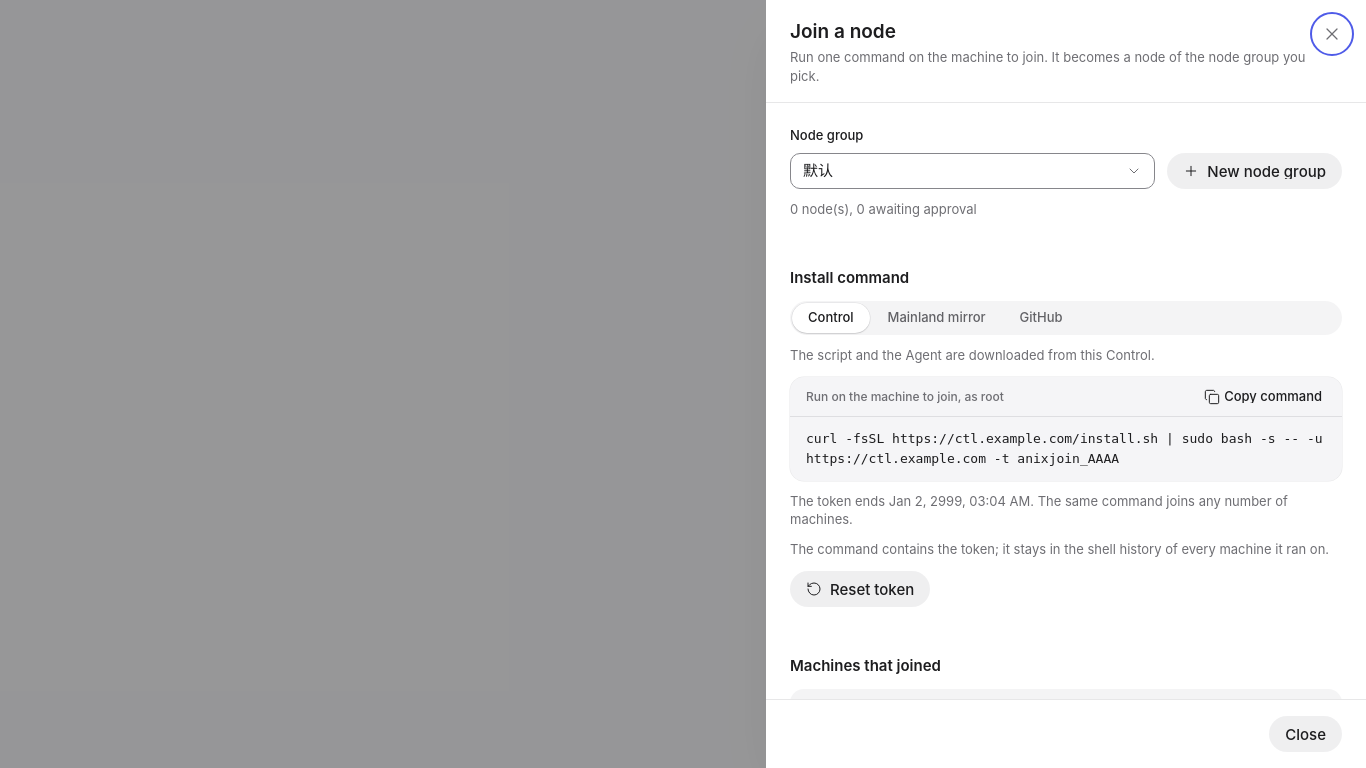
Test: NodeJoinSheet › switches mirrors, notes one that is not set up and shows when the token ends
expect the text with test id "join-token-expiry" shows "2999": met, box 790,493 -> 1288,527
Step 1. Click the button "GitHub" → (1041, 318), box 1004,303 -> 1078,333
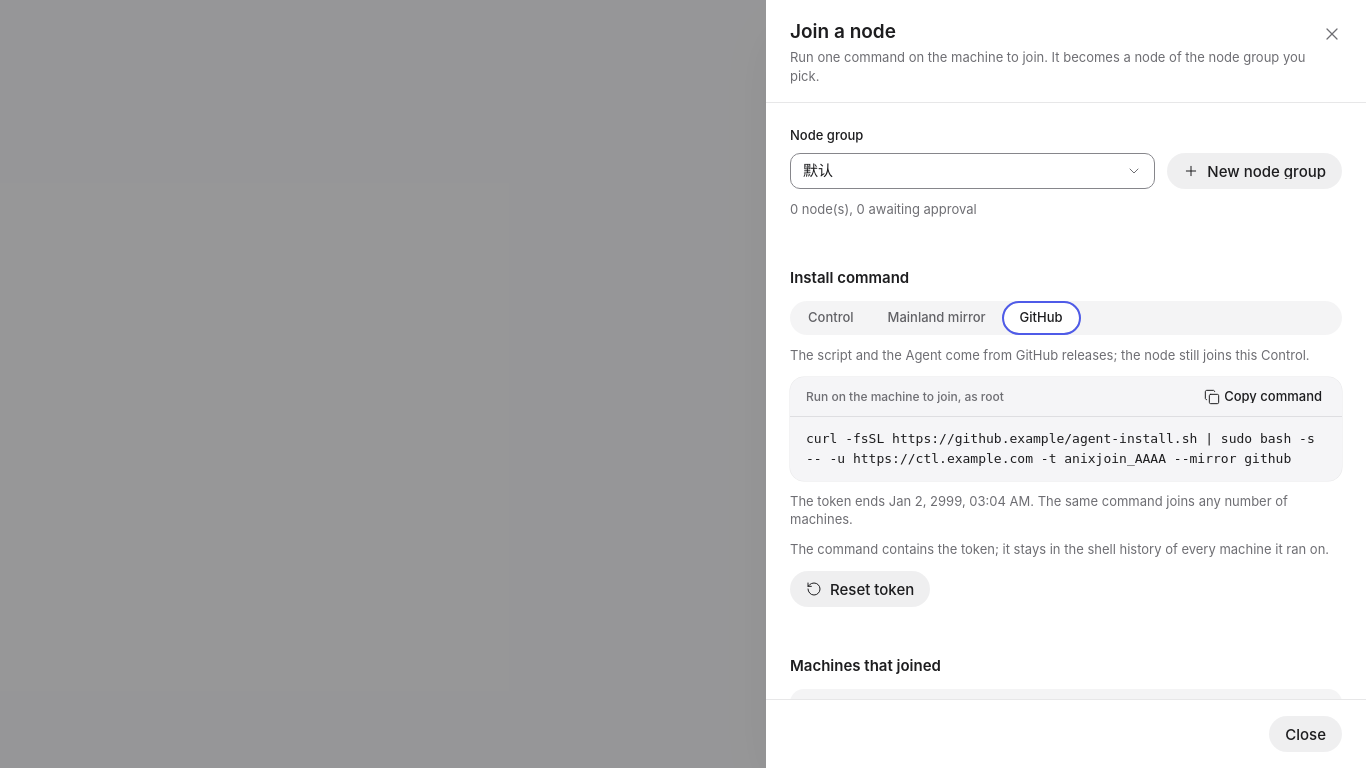
expect the element with test id "join-command-text" shows "--mirror github": met, box 806,431 -> 1323,466
Step 2. Click the button "Mainland mirror" → (936, 318), box 872,303 -> 1002,333
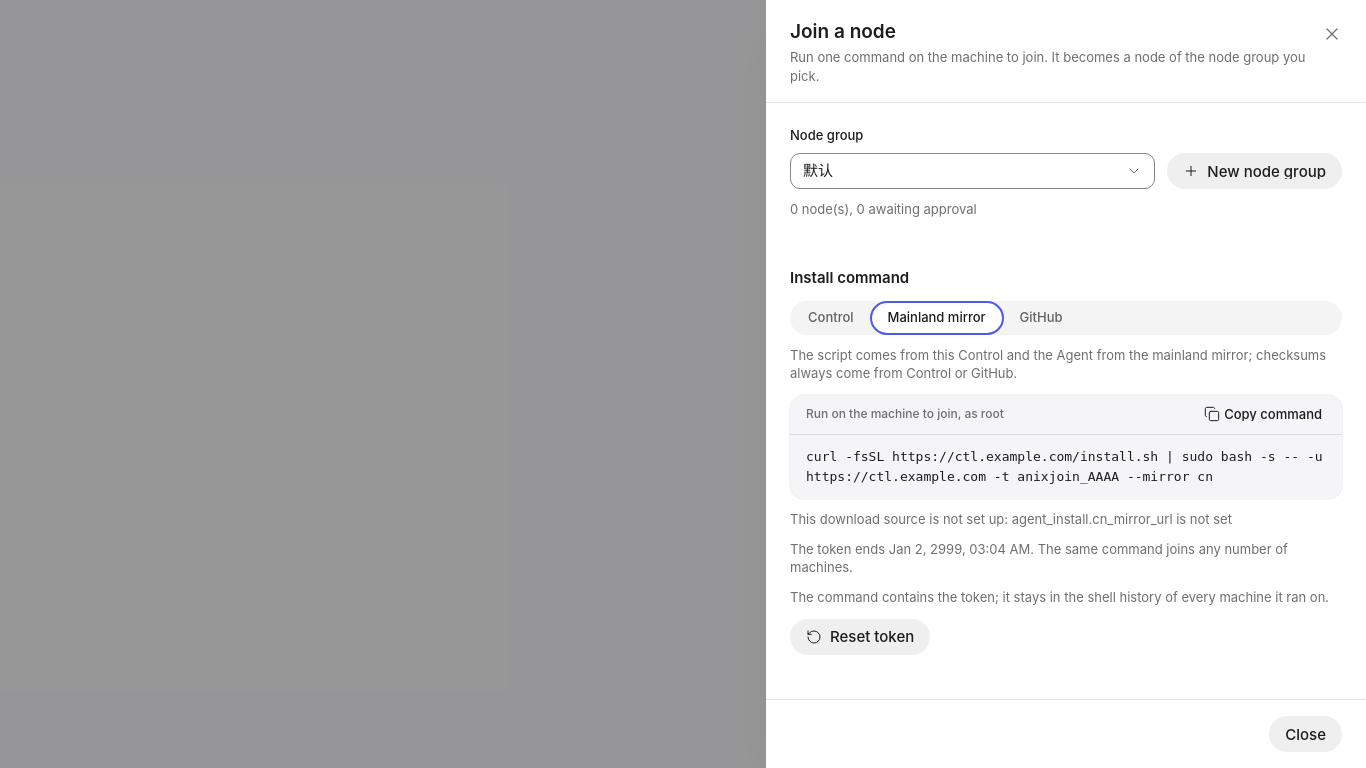
expect the element with test id "join-command-text" shows "--mirror cn": met, box 806,449 -> 1330,484
expect the text with test id "join-command-fallback" shows "agent_install.cn_mirror_url is not set": met, box 790,511 -> 1232,527
